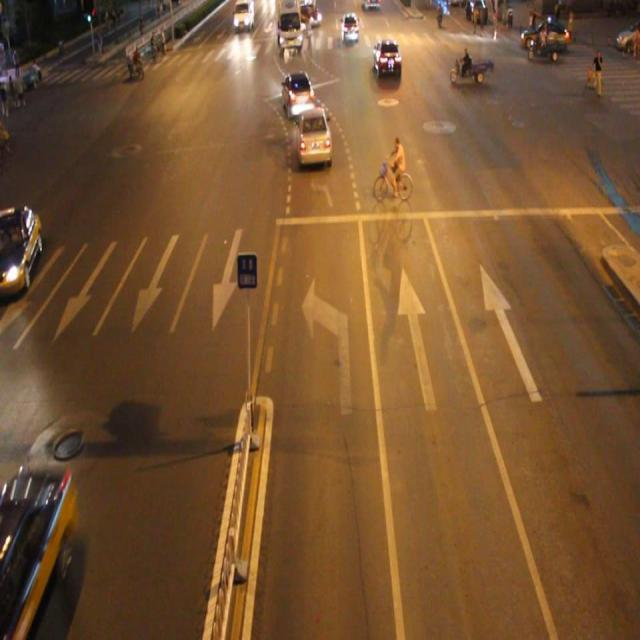car: (0, 466, 74, 640), (0, 204, 42, 297), (295, 104, 334, 164), (280, 67, 316, 119)
